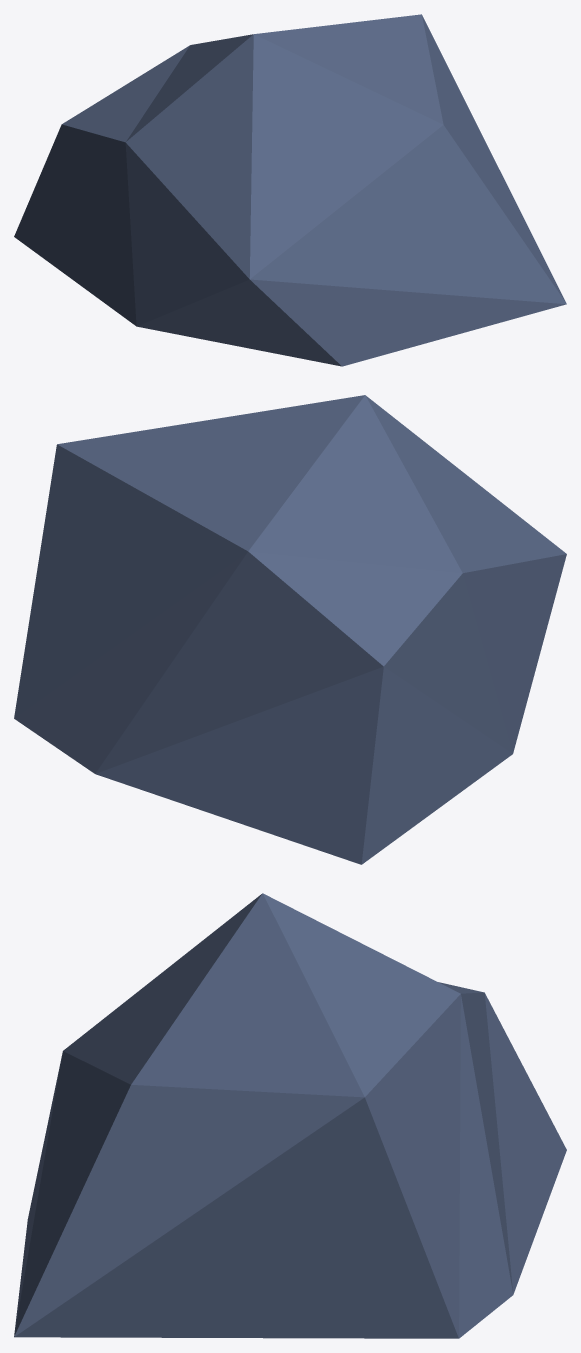
File: Rock03.fbx
3 views of the same model, one above another, from view 1: azimuth 30°, elevation 25°; view 2: azimuth 150°, elevation 25°; view 3: azimuth 270°, elevation 25° (orthographic). The views are drawn at different scales.
Parts seen in each view (by area): view 1: Rock_03; view 2: Rock_03; view 3: Rock_03.
Part boxes in pixels (<box>): Rock_03: <box>14,14,566,366</box>; Rock_03: <box>14,395,566,864</box>; Rock_03: <box>14,893,566,1338</box>.
Bounding box in the file's own units: 88.67 × 66.93 × 102.
